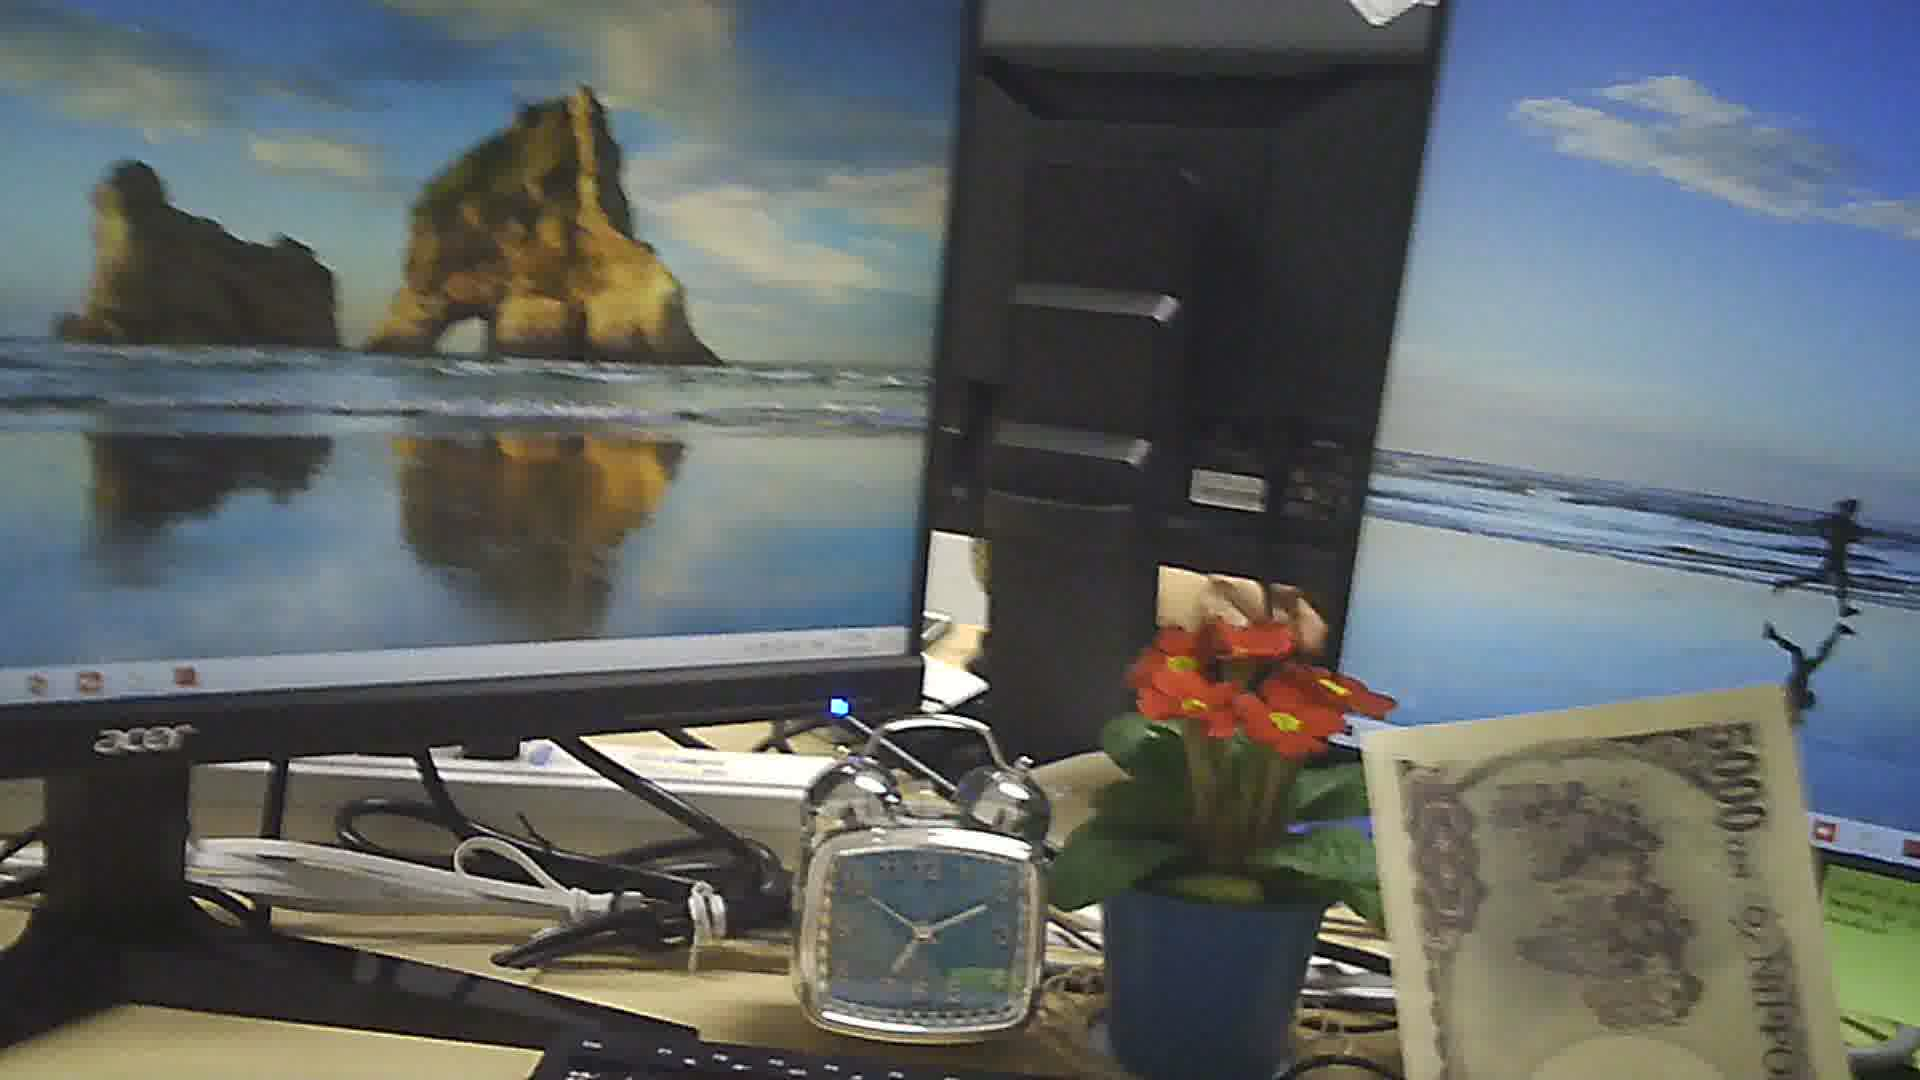5,000 Yen: (1357, 690, 1844, 1079)
